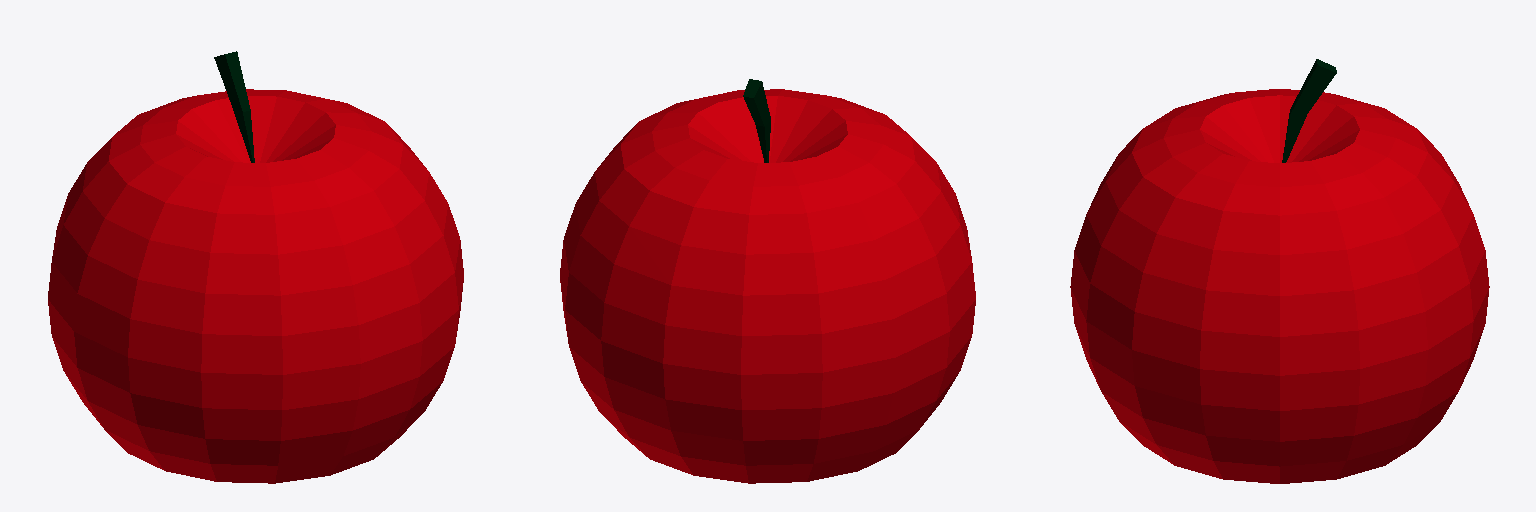
The model's file is Apple.obj.
The picture shows the model from 3 angles: view 1: azimuth 30°, elevation 25°; view 2: azimuth 150°, elevation 25°; view 3: azimuth 270°, elevation 25°; orthographic projection.
Parts seen in each view (by area): view 1: Sphere; view 2: Sphere; view 3: Sphere.
Boxes of the visible parts, x1,y1,x2,y2 form: Sphere: [48, 51, 463, 483]; Sphere: [560, 79, 975, 483]; Sphere: [1070, 59, 1489, 483].
Bounding box in the file's own units: 0.3846 × 0.3865 × 0.3836.